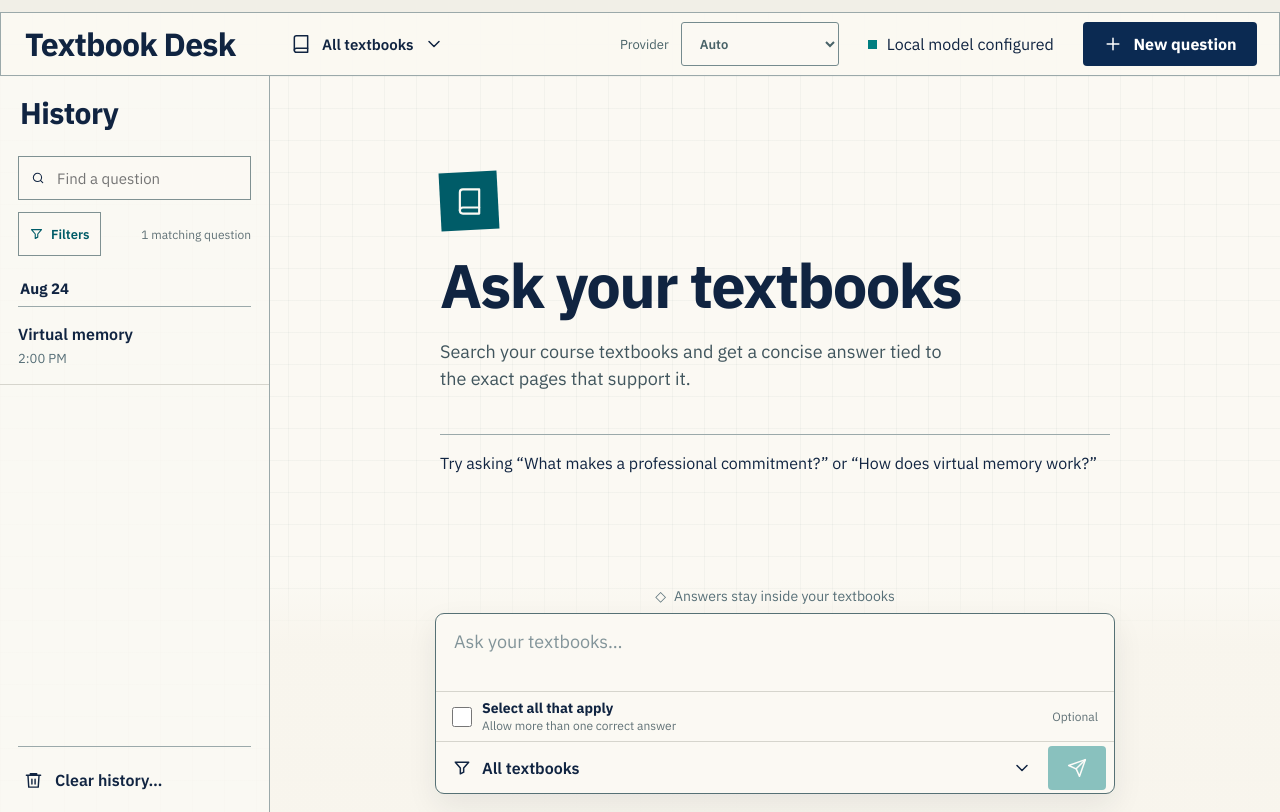
Textbook Desk › renders a persisted provider failure as an error when history is reopened
Click the button "Virtual memory 2:00 PM": click(118, 346) [18,307,219,384]
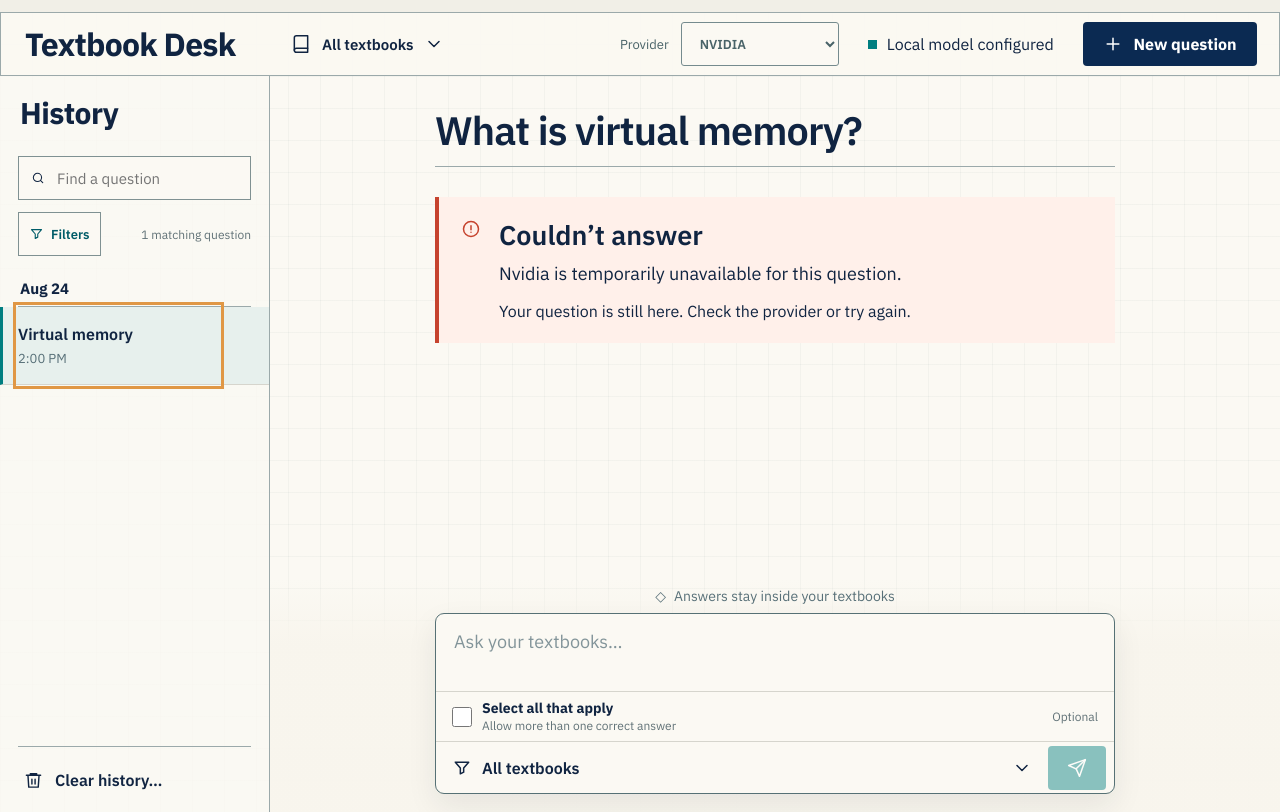
Result: the heading "Couldn’t answer" is shown at [499,218,703,252]
Result: the text "Nvidia is temporarily unavailable for this question." is shown at [499,261,911,287]
